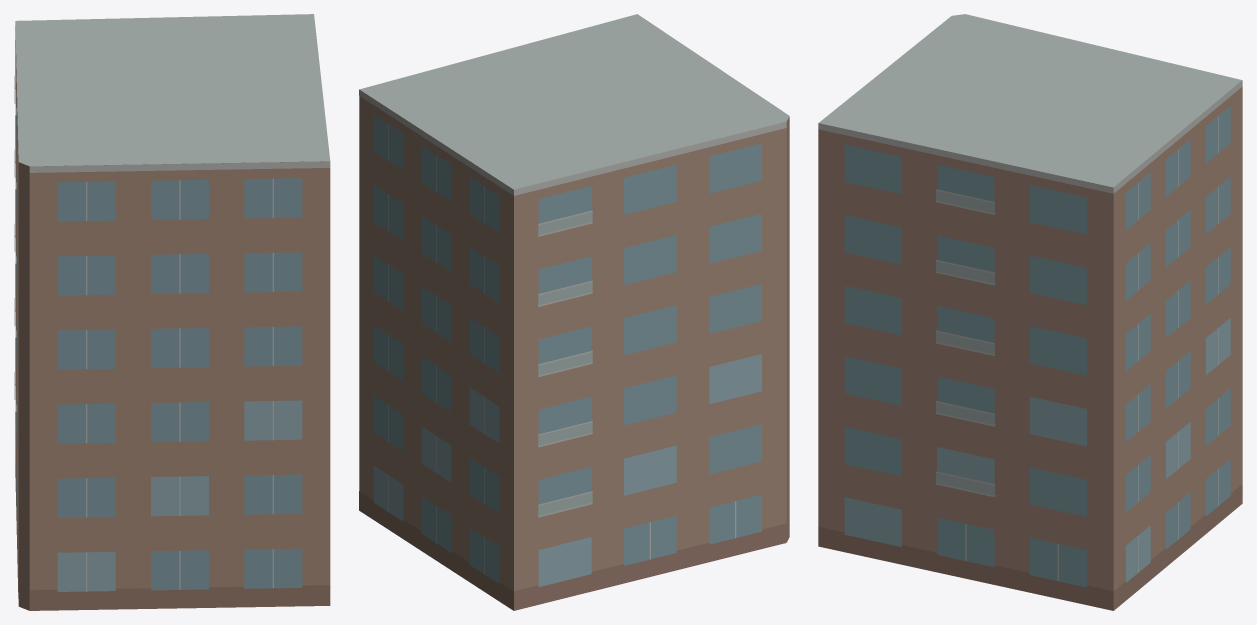
The model's file is survey-upis-33043347.glb.
3 renders of one model, left to right at view 1: azimuth 30°, elevation 25°; view 2: azimuth 150°, elevation 25°; view 3: azimuth 270°, elevation 25°, orthographic. The views are drawn at different scales.
Visible parts, largest first — view 1: survey-upis-33043347.tmp; view 2: survey-upis-33043347.tmp; view 3: survey-upis-33043347.tmp.
Boxes of the visible parts, <box> form: survey-upis-33043347.tmp: <box>14,14,330,610</box>; survey-upis-33043347.tmp: <box>359,14,789,610</box>; survey-upis-33043347.tmp: <box>818,14,1242,610</box>.
Bounding box in the file's own units: 14.51 × 16.5 × 14.99.
